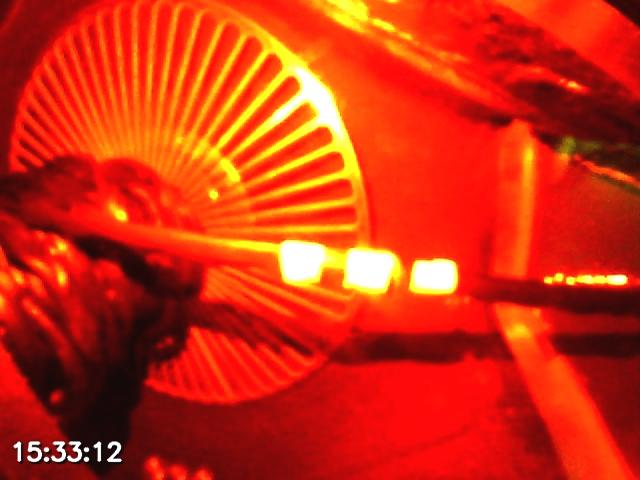white-dots: (278, 237, 459, 296)
